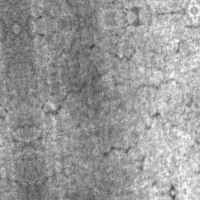crazing: (32, 31, 140, 118), (93, 86, 196, 173)
